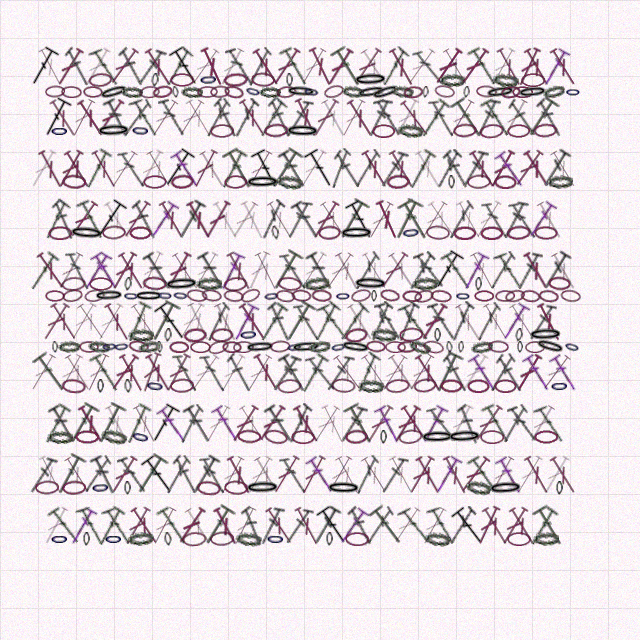chain: (98, 82, 130, 102), (370, 82, 402, 102), (534, 337, 566, 356), (69, 225, 104, 241), (164, 276, 199, 292), (488, 480, 523, 496), (100, 427, 128, 446), (353, 72, 388, 87), (96, 123, 131, 138), (353, 276, 388, 291), (528, 327, 563, 342), (447, 429, 482, 444), (245, 480, 280, 495), (356, 84, 387, 100), (485, 84, 516, 100), (340, 339, 371, 355), (285, 124, 320, 138), (245, 175, 280, 189), (339, 226, 374, 240), (420, 430, 455, 444), (326, 481, 361, 495), (263, 428, 289, 446), (303, 275, 330, 292), (465, 479, 492, 496), (127, 530, 154, 547), (344, 326, 369, 344), (239, 286, 262, 305), (517, 85, 548, 99), (492, 72, 519, 88), (276, 174, 303, 190), (408, 338, 432, 356), (235, 531, 262, 547), (424, 531, 451, 547), (398, 428, 423, 445), (245, 340, 275, 354), (291, 340, 321, 354), (207, 338, 230, 356), (542, 83, 566, 100), (413, 377, 437, 394), (397, 123, 424, 138), (88, 72, 113, 88), (223, 72, 248, 88), (479, 123, 504, 139), (61, 276, 86, 292), (223, 276, 248, 292), (277, 276, 302, 292), (61, 378, 86, 394), (277, 378, 302, 394), (385, 378, 410, 394), (196, 480, 221, 496), (182, 531, 207, 547), (286, 85, 316, 98), (547, 174, 573, 189), (196, 276, 222, 291), (412, 276, 438, 291), (94, 289, 124, 302), (371, 327, 397, 342), (533, 531, 559, 546), (183, 327, 207, 343), (210, 327, 234, 343), (470, 339, 494, 355), (130, 428, 151, 446), (533, 123, 558, 138), (506, 225, 531, 240), (142, 276, 167, 291), (331, 378, 356, 393), (323, 83, 345, 100), (350, 287, 372, 304), (422, 339, 445, 355), (439, 73, 465, 87), (128, 328, 154, 342), (358, 379, 384, 393), (47, 430, 73, 444), (251, 72, 275, 87), (264, 123, 288, 138), (453, 123, 477, 138), (62, 174, 86, 189), (170, 174, 194, 189), (386, 174, 410, 189), (467, 174, 491, 189), (102, 225, 126, 240), (426, 225, 450, 240), (134, 290, 164, 302), (399, 327, 423, 342), (170, 378, 194, 393), (237, 429, 261, 444), (35, 480, 59, 495), (62, 480, 86, 495), (224, 480, 248, 495), (210, 531, 234, 546), (223, 84, 245, 100), (413, 288, 435, 304), (504, 288, 526, 304), (318, 225, 341, 240), (548, 276, 571, 291), (138, 339, 161, 354), (308, 339, 331, 354), (345, 429, 368, 444), (170, 73, 194, 87), (521, 73, 545, 87), (210, 124, 234, 138), (143, 175, 167, 189), (48, 226, 72, 240), (534, 226, 558, 240), (89, 277, 113, 291), (75, 430, 99, 444), (291, 430, 315, 444), (480, 430, 504, 444), (534, 430, 558, 444), (345, 532, 369, 546), (507, 532, 531, 546), (186, 288, 208, 303), (379, 288, 401, 303), (372, 124, 395, 138), (507, 124, 530, 138), (224, 175, 247, 189), (494, 175, 517, 189), (129, 226, 152, 240), (453, 226, 476, 240), (480, 226, 503, 240), (440, 379, 463, 393), (467, 379, 490, 393), (494, 379, 517, 393), (145, 378, 165, 394), (152, 84, 173, 99), (434, 84, 455, 99), (62, 288, 83, 303), (84, 288, 105, 303), (201, 288, 222, 303), (128, 339, 149, 354), (430, 289, 452, 303), (401, 225, 421, 240), (391, 85, 414, 98), (139, 85, 160, 99), (276, 85, 297, 99), (403, 85, 424, 99), (500, 85, 521, 99), (223, 289, 244, 303), (275, 289, 296, 303), (520, 289, 541, 303), (538, 289, 559, 303), (560, 289, 581, 303), (563, 339, 581, 355), (342, 85, 364, 98), (58, 340, 80, 353), (88, 340, 110, 353), (199, 72, 218, 87), (131, 123, 150, 138), (239, 327, 258, 342), (91, 480, 110, 495), (476, 85, 497, 98), (291, 289, 312, 302), (311, 289, 332, 302), (488, 340, 509, 353), (244, 84, 262, 99), (50, 124, 69, 138), (550, 379, 569, 393), (50, 532, 69, 546), (104, 532, 123, 546), (266, 532, 285, 546), (121, 86, 143, 98), (181, 86, 203, 98), (259, 86, 281, 98), (45, 85, 65, 98), (210, 85, 230, 98), (270, 340, 290, 353), (366, 340, 386, 353), (397, 340, 417, 353), (61, 86, 82, 98), (197, 86, 218, 98), (512, 86, 533, 98), (190, 341, 211, 353), (233, 341, 254, 353), (385, 341, 406, 353), (83, 86, 103, 98), (45, 290, 65, 302), (402, 290, 422, 302), (474, 290, 494, 302), (495, 290, 515, 302), (79, 341, 99, 353), (169, 341, 189, 353), (222, 341, 242, 353), (525, 341, 545, 353), (303, 85, 320, 99), (263, 289, 280, 303), (286, 340, 303, 354), (330, 340, 347, 354), (172, 289, 189, 302), (101, 340, 118, 353), (113, 340, 130, 353), (157, 289, 173, 302), (565, 86, 581, 98), (123, 290, 139, 302), (335, 290, 351, 302), (455, 290, 471, 302), (271, 225, 280, 240), (151, 73, 159, 87), (124, 277, 132, 291), (164, 328, 172, 342), (515, 328, 523, 342), (124, 379, 132, 393), (164, 532, 172, 546), (286, 73, 293, 87), (448, 175, 455, 189), (475, 277, 482, 291), (434, 328, 441, 342), (97, 379, 104, 393), (380, 430, 387, 444), (124, 481, 131, 495), (556, 481, 563, 495), (83, 532, 90, 546), (326, 532, 333, 546), (172, 86, 179, 98), (422, 86, 429, 98), (463, 86, 470, 98), (156, 341, 163, 353), (446, 341, 453, 353), (371, 290, 377, 302), (52, 341, 58, 353), (458, 341, 464, 353), (517, 341, 523, 353)
double: (368, 504, 407, 547), (32, 351, 70, 394), (450, 96, 487, 140), (523, 96, 560, 140), (267, 147, 304, 191), (132, 453, 169, 497), (450, 505, 488, 547), (153, 300, 190, 343), (140, 453, 177, 496), (315, 504, 352, 547), (330, 45, 366, 89), (397, 198, 433, 242), (268, 249, 304, 293), (281, 300, 317, 344), (200, 504, 236, 548), (532, 504, 568, 548), (160, 147, 196, 190), (92, 198, 128, 241), (222, 147, 257, 191), (335, 198, 370, 242), (65, 402, 100, 446), (343, 402, 378, 446), (52, 453, 87, 497), (335, 301, 371, 343), (46, 505, 82, 547), (168, 45, 203, 88), (303, 147, 338, 190), (430, 249, 465, 292), (26, 45, 60, 89), (39, 96, 73, 140), (344, 198, 378, 242), (390, 198, 424, 242), (147, 300, 181, 344), (93, 402, 127, 446), (147, 402, 181, 446), (397, 505, 433, 546), (416, 97, 451, 139), (25, 250, 60, 292), (316, 301, 351, 343), (397, 301, 432, 343), (250, 147, 283, 191), (431, 351, 464, 395), (106, 46, 141, 87), (187, 46, 222, 87), (403, 46, 438, 87), (457, 46, 492, 87), (511, 148, 546, 189), (187, 352, 222, 393), (330, 352, 365, 393), (538, 352, 573, 393), (457, 454, 492, 495), (88, 46, 122, 88), (161, 46, 195, 88), (377, 46, 411, 88), (74, 97, 108, 139), (147, 97, 181, 139), (255, 97, 289, 139), (439, 250, 473, 292), (255, 301, 289, 343), (296, 352, 330, 394), (309, 403, 343, 445), (533, 403, 567, 445), (466, 454, 500, 496), (155, 505, 189, 547), (525, 505, 559, 547), (466, 45, 499, 88), (128, 96, 161, 139), (80, 147, 113, 190), (39, 402, 72, 445), (269, 46, 303, 87), (350, 46, 384, 87), (431, 46, 465, 87), (93, 97, 127, 138), (66, 199, 100, 240), (425, 199, 459, 240), (34, 250, 68, 291), (385, 250, 419, 291), (74, 301, 108, 342), (236, 301, 270, 342), (107, 352, 141, 393), (358, 352, 392, 393), (385, 352, 419, 393), (263, 403, 297, 444), (471, 403, 505, 444), (174, 505, 208, 546), (53, 46, 86, 88), (142, 46, 175, 88), (250, 46, 283, 88), (323, 46, 356, 88), (358, 46, 391, 88), (547, 46, 580, 88), (47, 97, 80, 139), (174, 97, 207, 139), (309, 97, 342, 139), (344, 97, 377, 139), (479, 97, 512, 139), (61, 148, 94, 190), (107, 148, 140, 190), (196, 148, 229, 190), (277, 148, 310, 190), (404, 148, 437, 190), (412, 148, 445, 190), (466, 148, 499, 190), (539, 148, 572, 190), (547, 148, 580, 190), (101, 199, 134, 241), (228, 199, 261, 241), (290, 199, 323, 241), (309, 199, 342, 241), (115, 250, 148, 292), (142, 250, 175, 292), (196, 250, 229, 292), (493, 250, 526, 292), (39, 301, 72, 343), (93, 301, 126, 343), (344, 301, 377, 343), (417, 301, 450, 343), (452, 301, 485, 343), (506, 301, 539, 343), (88, 352, 121, 394), (242, 352, 275, 394), (277, 352, 310, 394), (377, 352, 410, 394), (412, 352, 445, 394), (458, 352, 491, 394), (512, 352, 545, 394), (47, 403, 80, 445), (182, 403, 215, 445), (228, 403, 261, 445), (290, 403, 323, 445), (363, 403, 396, 445), (390, 403, 423, 445), (525, 403, 558, 445), (61, 454, 94, 496), (107, 454, 140, 496), (358, 454, 391, 496), (547, 454, 580, 496), (93, 505, 126, 547), (101, 505, 134, 547), (182, 505, 215, 547), (479, 505, 512, 547), (498, 505, 531, 547), (506, 505, 539, 547), (278, 45, 310, 88), (216, 147, 248, 190), (40, 198, 72, 241), (310, 300, 342, 343), (480, 402, 512, 445), (75, 504, 107, 547), (426, 504, 458, 547), (398, 98, 432, 138), (493, 149, 527, 189), (155, 404, 189, 444), (336, 506, 370, 546), (169, 148, 202, 189), (120, 199, 153, 240), (147, 199, 180, 240), (317, 199, 350, 240), (525, 199, 558, 240), (169, 250, 202, 291), (323, 250, 356, 291), (377, 250, 410, 291), (128, 301, 161, 342), (236, 403, 269, 444), (255, 403, 288, 444), (398, 403, 431, 444), (304, 454, 337, 495), (128, 505, 161, 546), (263, 505, 296, 546), (390, 505, 423, 546), (81, 46, 113, 88), (386, 46, 418, 88), (486, 46, 518, 88), (521, 46, 553, 88), (183, 97, 215, 139), (318, 97, 350, 139), (445, 97, 477, 139), (499, 97, 531, 139), (27, 148, 59, 190), (54, 148, 86, 190), (143, 148, 175, 190), (243, 148, 275, 190), (359, 148, 391, 190), (386, 148, 418, 190), (486, 148, 518, 190), (156, 199, 188, 241), (175, 199, 207, 241), (183, 199, 215, 241), (210, 199, 242, 241), (364, 199, 396, 241), (453, 199, 485, 241), (534, 199, 566, 241), (54, 250, 86, 292), (108, 250, 140, 292), (162, 250, 194, 292), (189, 250, 221, 292), (305, 250, 337, 292), (540, 250, 572, 292), (548, 250, 580, 292), (54, 352, 86, 394), (216, 352, 248, 394), (75, 403, 107, 445), (189, 454, 221, 496), (243, 454, 275, 496), (251, 454, 283, 496), (405, 454, 437, 496), (521, 454, 553, 496), (540, 454, 572, 496), (121, 505, 153, 547), (310, 505, 342, 547), (75, 198, 106, 241), (121, 402, 152, 445), (297, 46, 329, 87), (440, 46, 472, 87), (237, 97, 269, 138), (297, 148, 329, 189), (521, 148, 553, 189), (264, 199, 296, 240), (418, 199, 450, 240), (472, 199, 504, 240), (81, 250, 113, 291), (89, 250, 121, 291), (297, 250, 329, 291), (359, 250, 391, 291), (48, 301, 80, 342), (67, 301, 99, 342), (175, 301, 207, 342), (480, 301, 512, 342), (499, 301, 531, 342), (62, 352, 94, 393), (405, 352, 437, 393), (467, 352, 499, 393), (521, 352, 553, 393), (548, 352, 580, 393), (210, 403, 242, 444), (270, 454, 302, 495), (513, 454, 545, 495), (35, 46, 66, 88), (216, 46, 247, 88), (494, 46, 525, 88), (540, 46, 571, 88), (67, 97, 98, 139), (102, 97, 133, 139), (391, 97, 422, 139), (89, 148, 120, 190), (135, 148, 166, 190), (224, 250, 255, 292), (332, 250, 363, 292), (467, 250, 498, 292), (102, 301, 133, 343), (534, 301, 565, 343), (116, 352, 147, 394), (162, 352, 193, 394), (102, 403, 133, 445), (202, 403, 233, 445), (445, 403, 476, 445), (89, 454, 120, 496), (216, 454, 247, 496), (224, 454, 255, 496), (332, 454, 363, 496), (386, 454, 417, 496), (413, 454, 444, 496), (440, 454, 471, 496), (486, 454, 517, 496), (494, 454, 525, 496), (40, 505, 71, 547), (67, 505, 98, 547), (148, 505, 179, 547), (418, 505, 449, 547), (306, 45, 336, 88), (136, 249, 166, 292), (122, 300, 152, 343), (184, 300, 214, 343), (82, 351, 112, 394), (352, 351, 382, 394), (473, 504, 503, 547), (506, 98, 539, 137), (135, 47, 167, 87), (270, 353, 302, 393), (202, 199, 233, 240), (521, 250, 552, 291), (27, 352, 58, 393), (143, 352, 174, 393), (251, 352, 282, 393), (324, 454, 355, 495), (432, 454, 463, 495), (338, 97, 368, 139), (36, 148, 66, 190), (190, 148, 220, 190), (238, 199, 268, 241), (460, 250, 490, 292), (211, 301, 241, 343), (230, 301, 260, 343), (130, 403, 160, 445), (373, 403, 403, 445), (419, 403, 449, 445), (36, 454, 66, 496), (298, 454, 328, 496), (211, 505, 241, 547), (292, 505, 322, 547), (412, 48, 445, 86), (413, 251, 445, 290), (81, 455, 113, 494), (445, 506, 477, 545), (198, 45, 227, 88), (292, 96, 321, 139), (373, 198, 402, 241), (244, 249, 273, 292), (332, 149, 363, 189), (378, 149, 409, 189), (432, 149, 463, 189), (405, 251, 436, 291), (324, 353, 355, 393), (494, 353, 525, 393), (507, 404, 538, 444), (27, 455, 58, 495), (283, 506, 314, 546), (514, 46, 543, 88), (217, 250, 246, 292), (252, 250, 281, 292), (319, 403, 348, 445), (230, 505, 259, 547), (121, 99, 153, 137), (305, 354, 337, 392), (426, 405, 458, 443), (364, 506, 395, 545), (230, 98, 260, 138), (284, 98, 314, 138), (117, 149, 147, 189), (441, 149, 471, 189), (508, 200, 538, 240), (527, 302, 557, 342), (487, 353, 517, 393), (338, 404, 368, 444), (117, 455, 147, 495), (379, 455, 409, 495), (63, 46, 92, 87), (117, 46, 146, 87), (225, 46, 254, 87), (373, 97, 402, 138), (535, 97, 564, 138), (460, 148, 489, 189), (130, 199, 159, 240), (257, 199, 286, 240), (427, 301, 456, 342), (225, 352, 254, 393), (441, 352, 470, 393), (284, 403, 313, 444), (171, 454, 200, 495), (346, 505, 375, 546), (352, 149, 382, 188), (487, 251, 517, 290), (203, 98, 232, 138), (446, 200, 475, 240), (481, 200, 510, 240), (279, 251, 308, 291), (352, 251, 381, 291), (500, 404, 529, 444), (163, 455, 192, 495), (279, 455, 308, 495), (158, 97, 186, 138), (212, 97, 240, 138), (266, 97, 294, 138), (285, 199, 313, 240), (501, 199, 529, 240), (515, 250, 543, 291), (366, 301, 394, 342), (374, 301, 402, 342), (447, 301, 475, 342), (245, 47, 273, 87), (428, 98, 456, 138), (293, 302, 321, 342), (474, 302, 502, 342), (199, 353, 227, 393), (177, 404, 205, 444), (199, 455, 227, 495), (138, 351, 164, 394), (366, 97, 393, 138), (474, 97, 501, 138), (50, 199, 77, 240), (266, 301, 293, 342), (172, 352, 199, 393), (258, 505, 285, 546), (204, 302, 231, 342), (353, 455, 380, 495), (65, 250, 91, 291), (394, 301, 420, 342), (456, 403, 481, 445), (240, 505, 265, 547), (328, 148, 352, 189)
